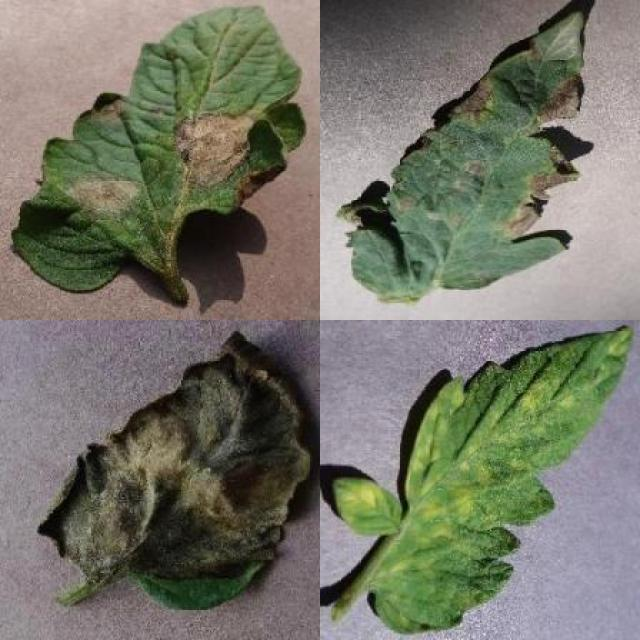Early Blight: (337, 12, 589, 304)
Late Blight: (12, 3, 308, 294), (35, 323, 315, 608)
Leaf Mold: (337, 324, 632, 636)
